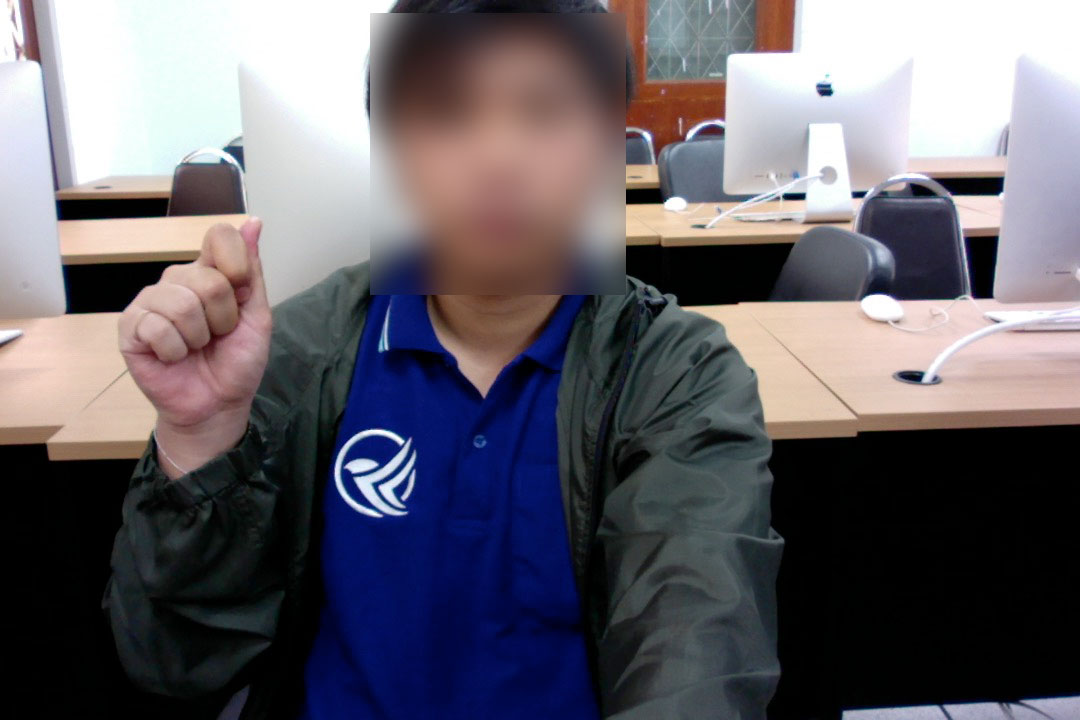or: (111, 198, 279, 440)
